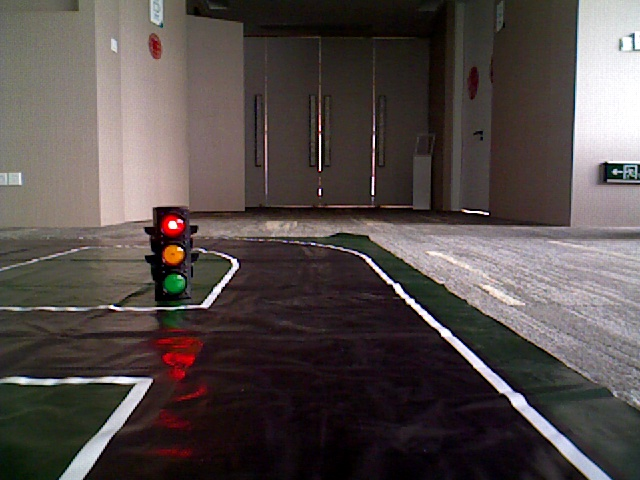red: (155, 211, 190, 293)
